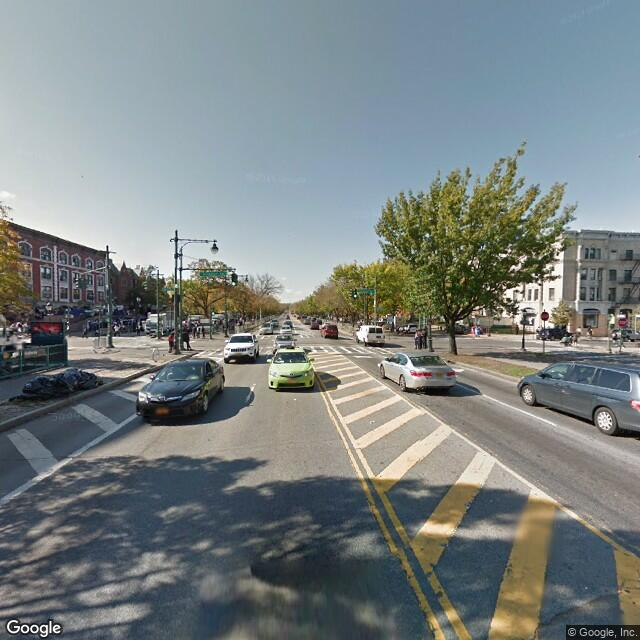litter: (367, 419, 378, 421), (290, 397, 299, 399)
